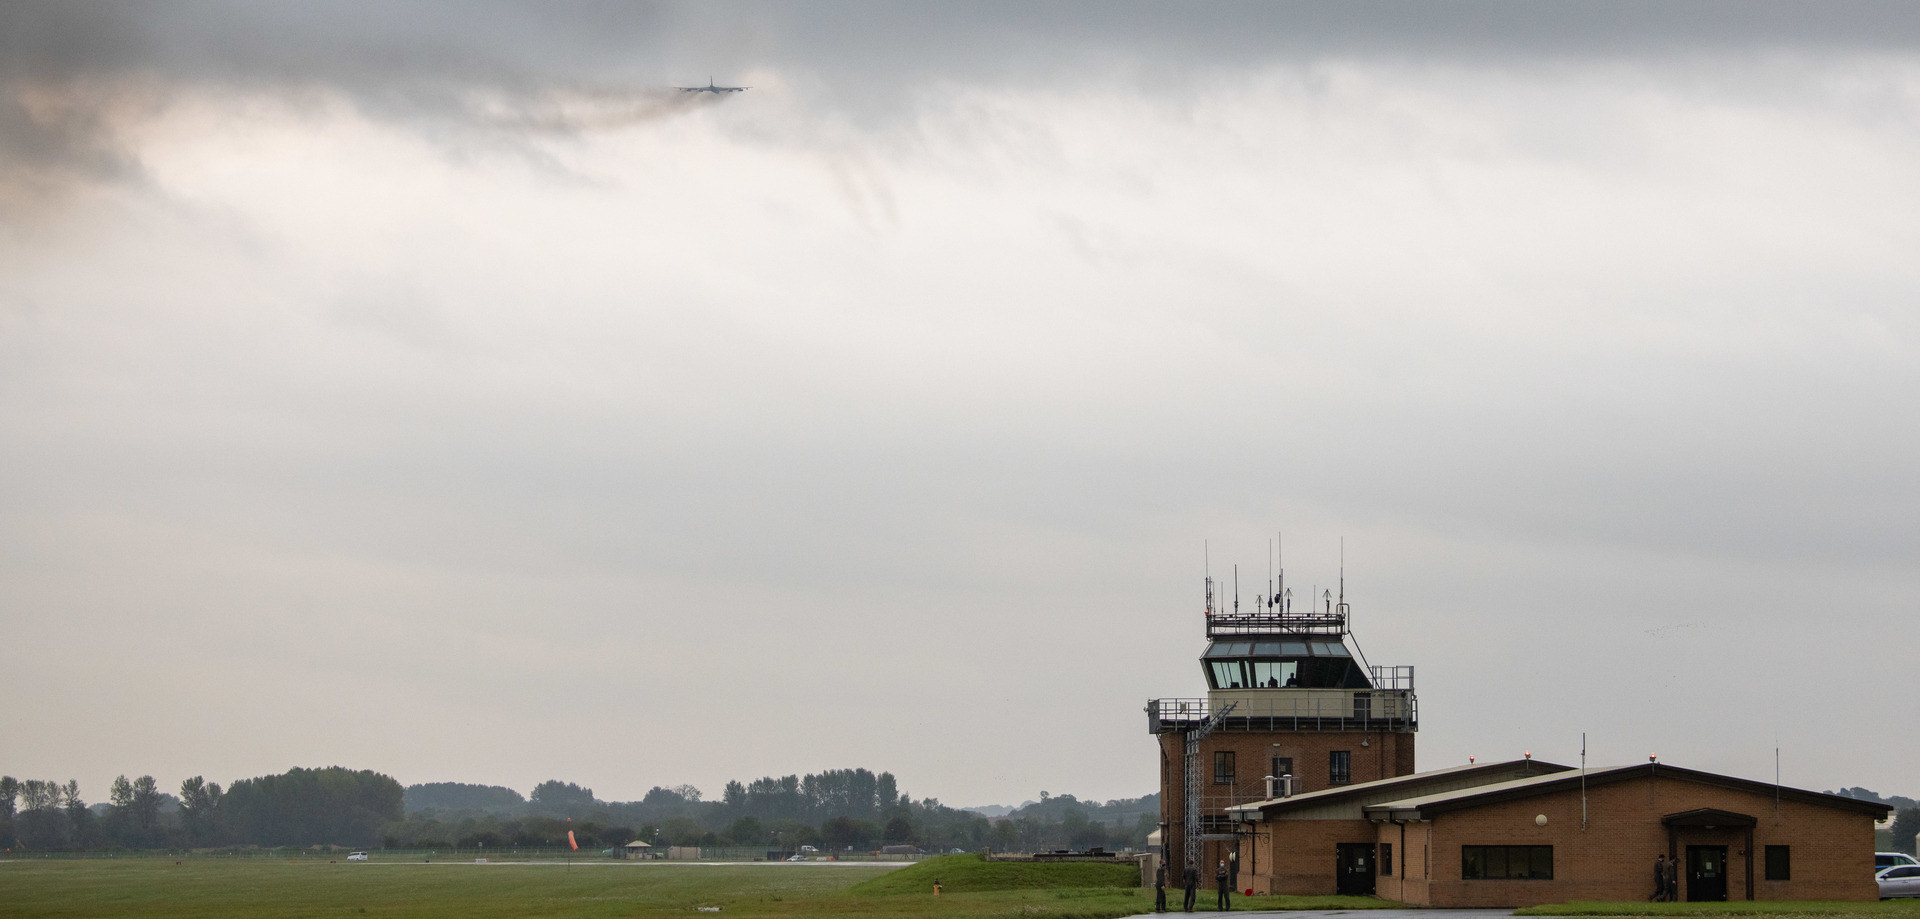B52: (672, 73, 756, 95)
